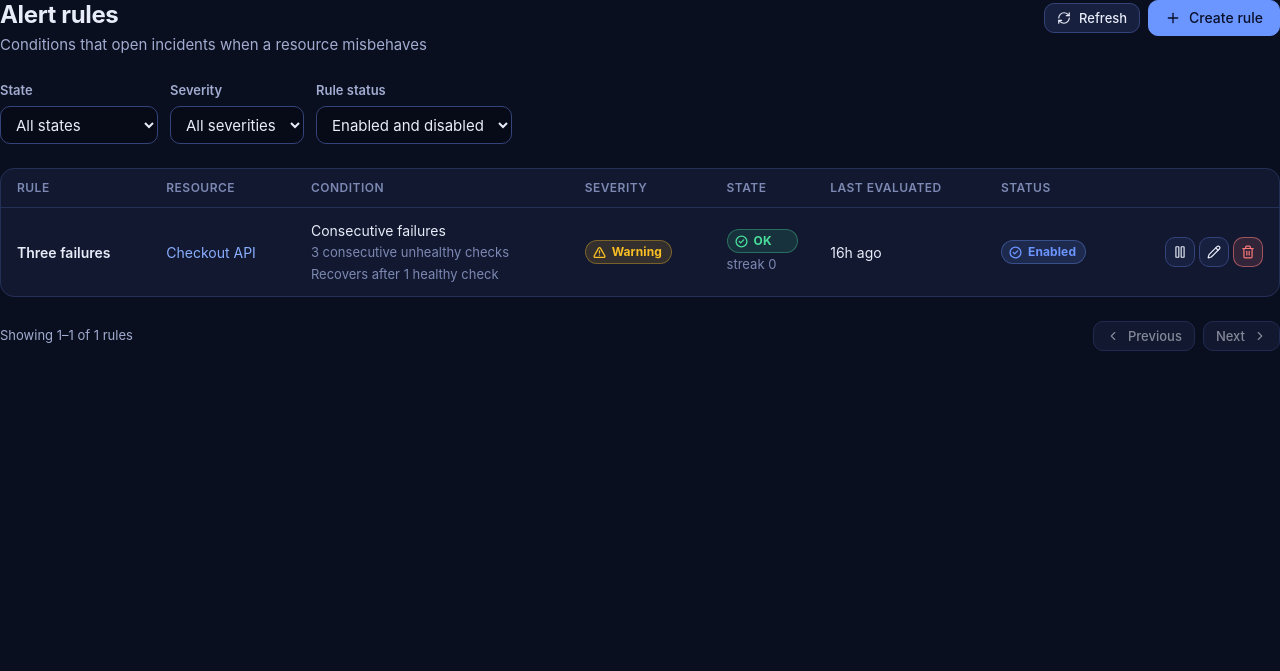
Test: AlertsPage create › shows only the inputs relevant to the chosen rule type
Expected: the text "Three failures" is shown, [17,244,110,260]
Click the button "Create rule".
click(1214, 18)  # box [1148,0,1279,36]
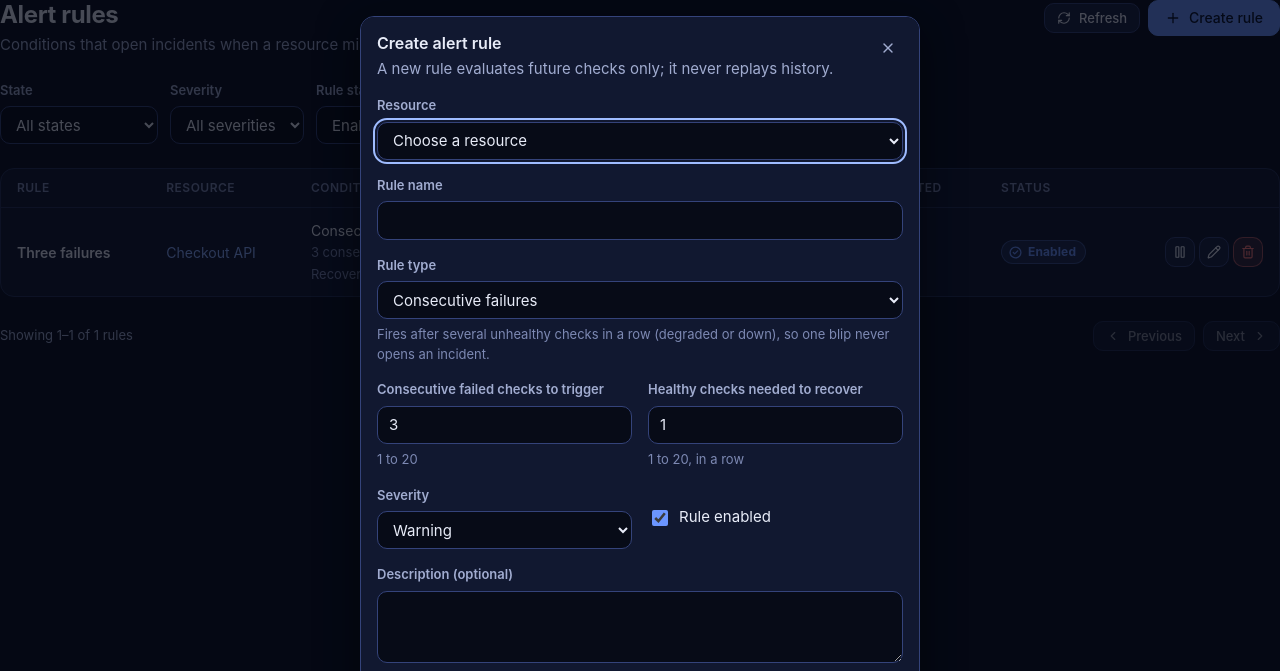
Expected: the field labelled "Threshold" is not shown
Now the field labelled "Consecutive failed checks to trigger" is shown, box [377,406,632,444]
Select "Latency threshold" in the dropdown labelled "Rule type" at (640, 300), box [377,281,903,319]
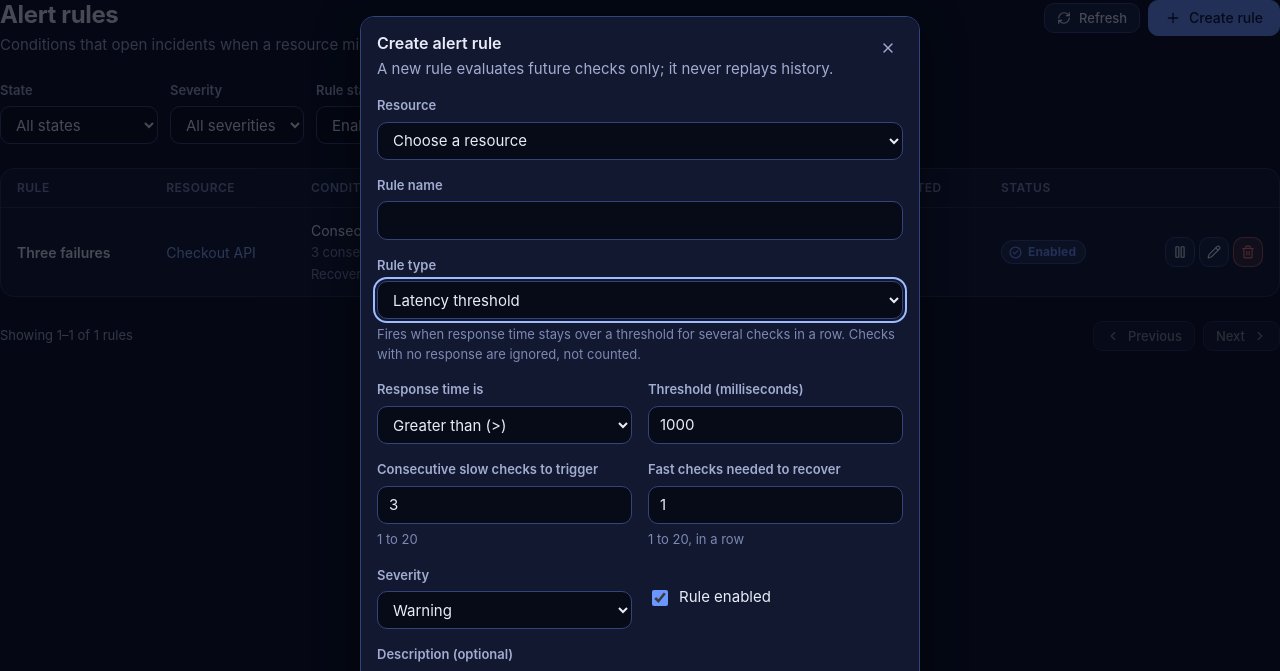
Now the field labelled "Consecutive slow checks to trigger" is shown, box [377,486,632,524]
Now the field labelled "Threshold (milliseconds)" is shown, box [648,406,903,444]
Select "Immediate status" in the dropdown labelled "Rule type" at (640, 300), box [377,281,903,319]
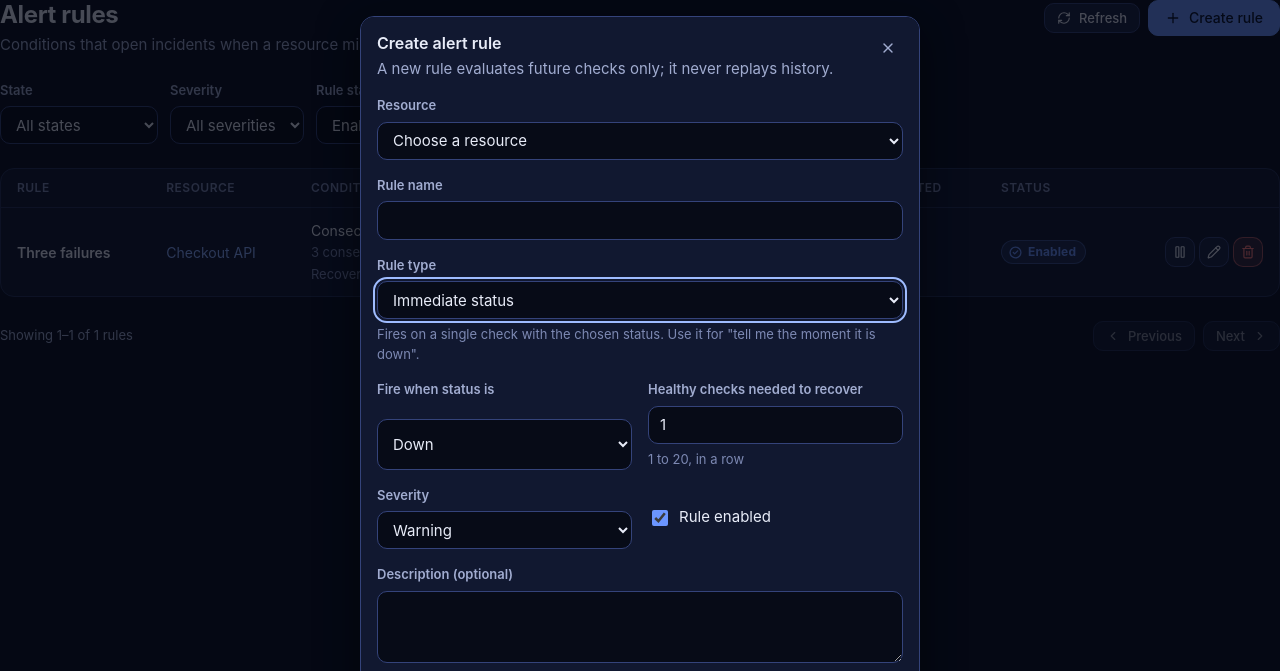
Now the dropdown labelled "Fire when status is" is shown, box [377,419,632,470]
Now the text labelled "threshold" is gone
